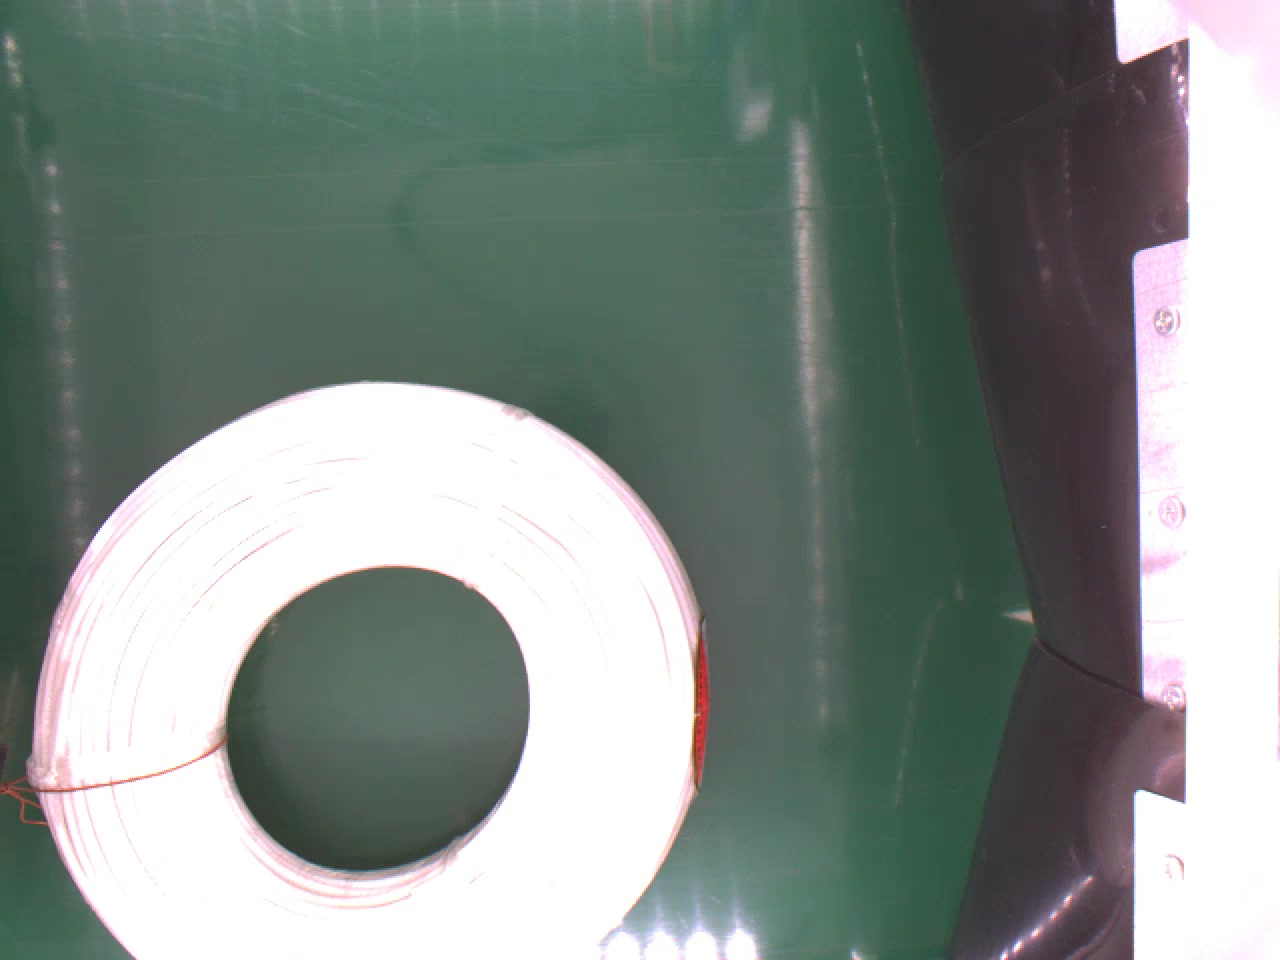white: (31, 376, 707, 960)
